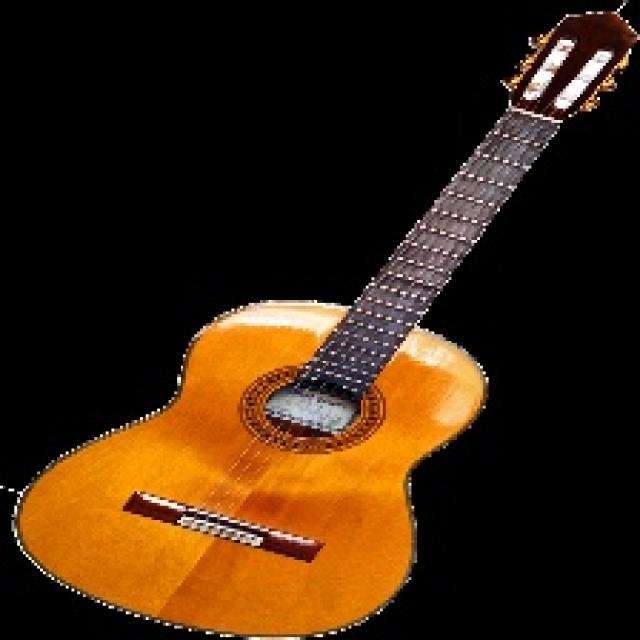guitar: (8, 8, 640, 637)
